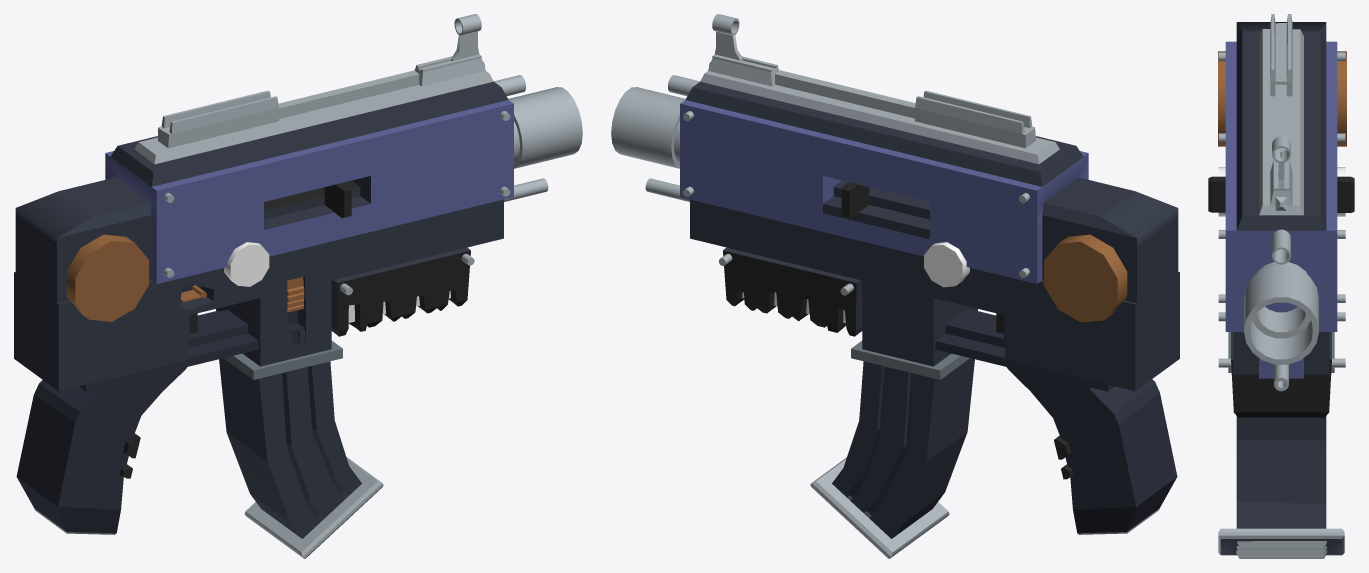
The picture shows the model from 3 angles, left to right: view 1: azimuth 30°, elevation 25°; view 2: azimuth 150°, elevation 25°; view 3: azimuth 270°, elevation 25°; orthographic projection. The views are drawn at different scales.
Visible parts, largest first — view 1: Box001, Cylinder001, Tube002, Cylinder002; view 2: Box001, Cylinder001, Tube002, Cylinder002; view 3: Box001, Tube002, Tube001, Cylinder001, Tube003, Tube005, Tube004, Cylinder009, Cylinder002.
Boxes of the visible parts, left/top/right/bottom form: Box001: left=14, top=31, right=513, bottom=558; Cylinder001: left=66, top=234, right=148, bottom=321; Tube002: left=508, top=87, right=582, bottom=168; Cylinder002: left=224, top=242, right=269, bottom=286; Box001: left=680, top=31, right=1179, bottom=558; Cylinder001: left=1044, top=234, right=1127, bottom=322; Tube002: left=611, top=87, right=685, bottom=168; Cylinder002: left=924, top=242, right=969, bottom=287; Box001: left=1208, top=14, right=1354, bottom=558; Tube002: left=1244, top=265, right=1318, bottom=364; Tube001: left=1252, top=262, right=1310, bottom=338; Cylinder001: left=1218, top=51, right=1346, bottom=146; Tube003: left=1272, top=229, right=1290, bottom=264; Tube005: left=1272, top=136, right=1290, bottom=162; Tube004: left=1274, top=364, right=1288, bottom=391; Cylinder009: left=1218, top=358, right=1345, bottom=367; Cylinder002: left=1218, top=167, right=1345, bottom=216.
Size of the model in its own units: 0.0593 by 0.0508 by 0.0131.
